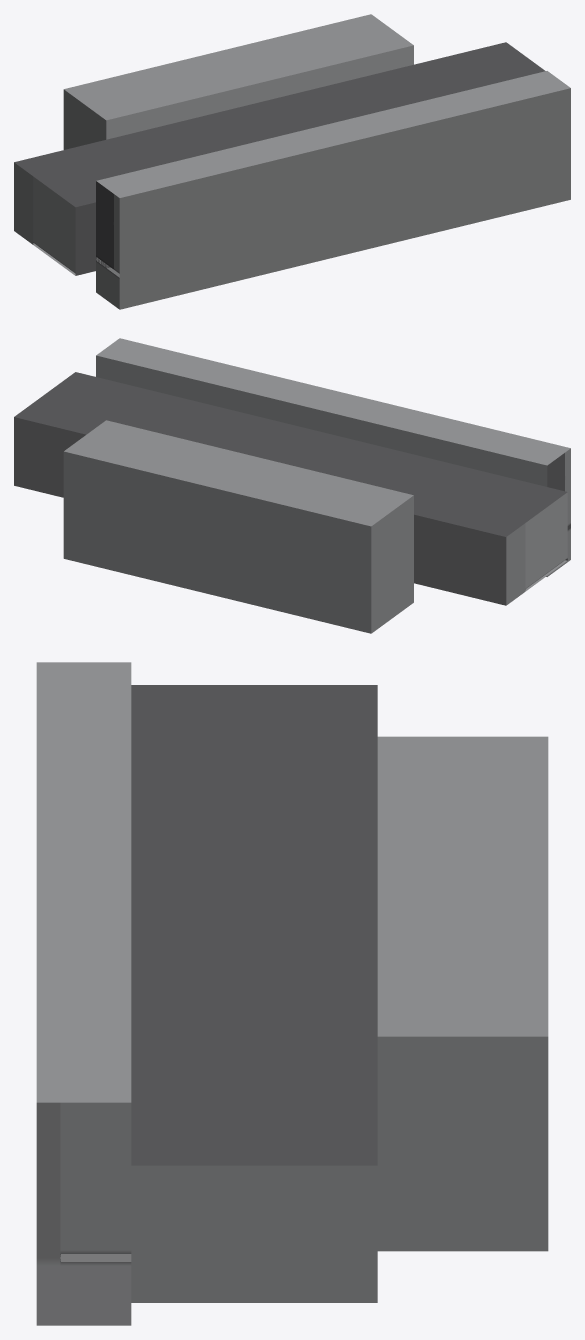
The picture shows the model from 3 angles, top to bottom: view 1: azimuth 30°, elevation 25°; view 2: azimuth 150°, elevation 25°; view 3: azimuth 270°, elevation 25°; orthographic projection. The views are drawn at different scales.
Size of the model in its own units: 0.12 by 0.026 by 0.054.
